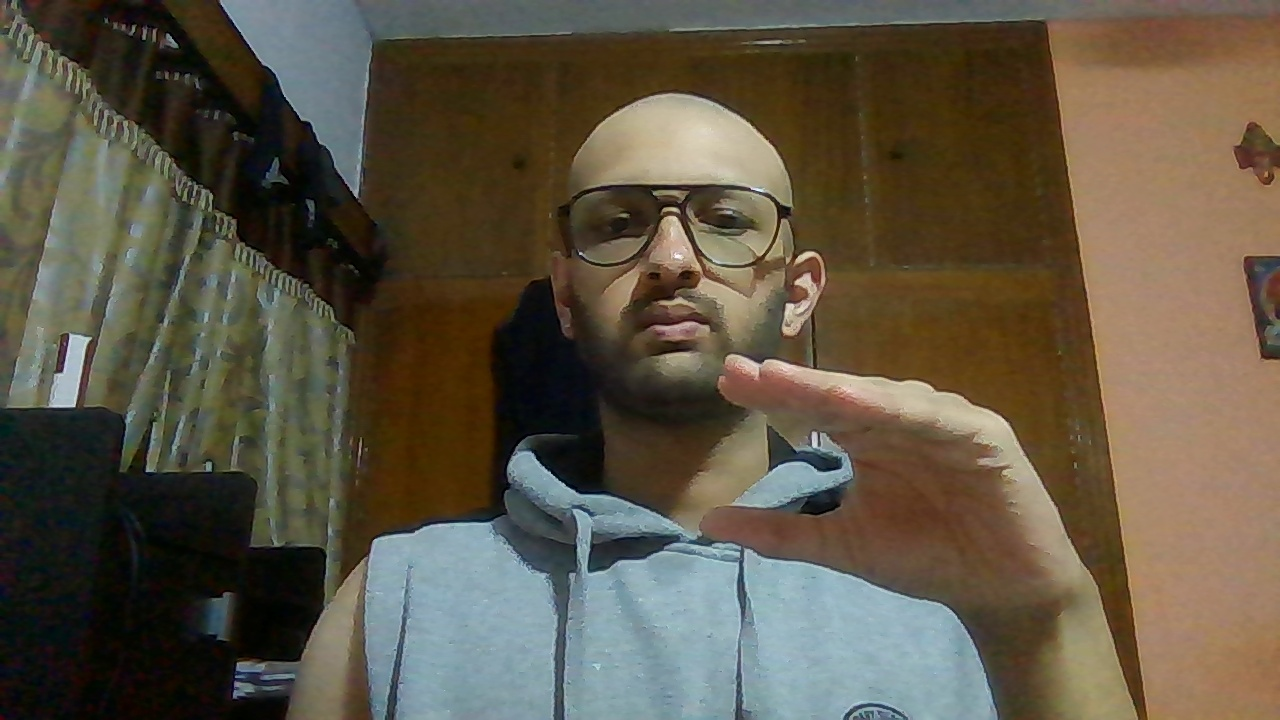No: (697, 349, 1086, 614)
